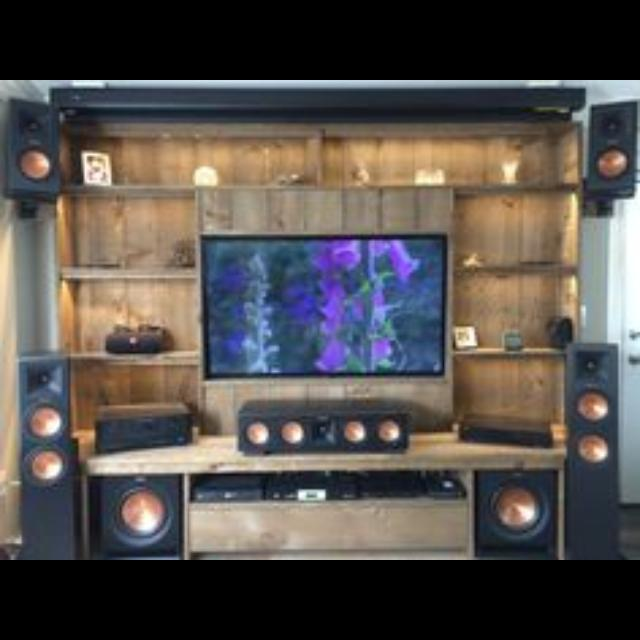Flat-Panel-TV: (184, 218, 473, 396)
